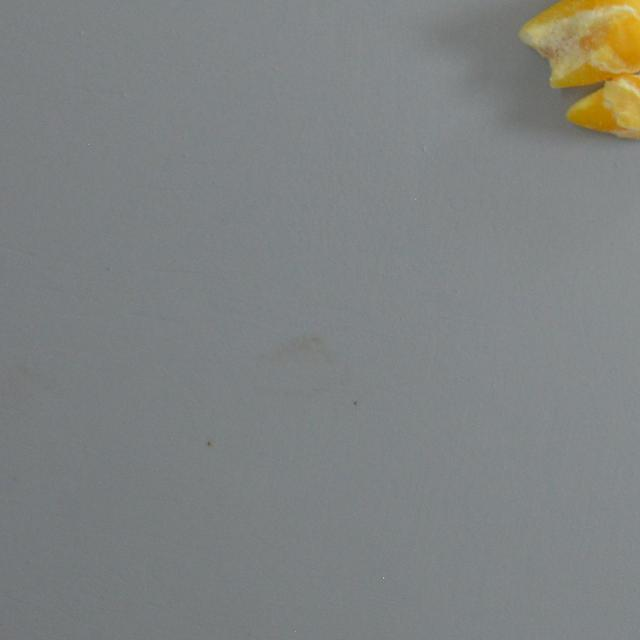pelicula: (546, 0, 640, 106), (598, 38, 640, 174)
